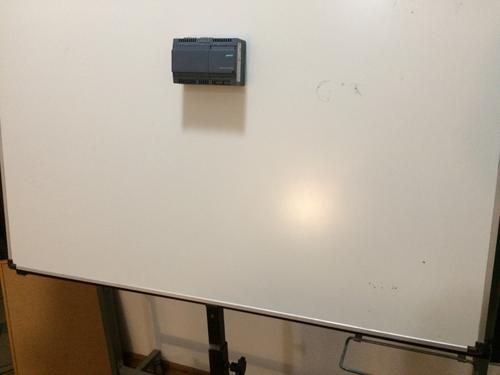iot2000: (170, 35, 247, 87)
